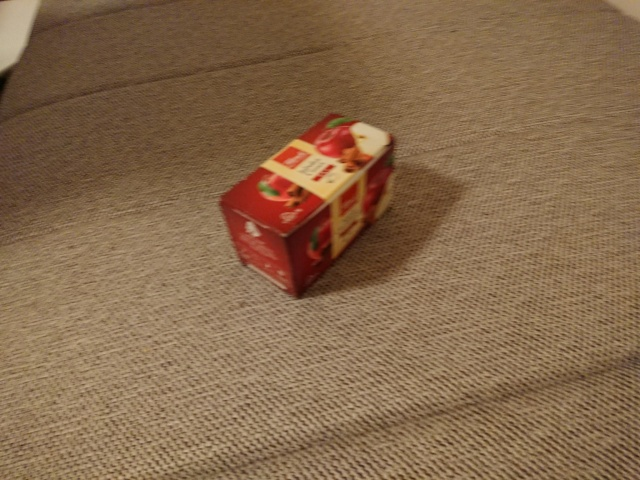Franck Apple Cinnamon Tea 60g: (214, 109, 400, 302)
